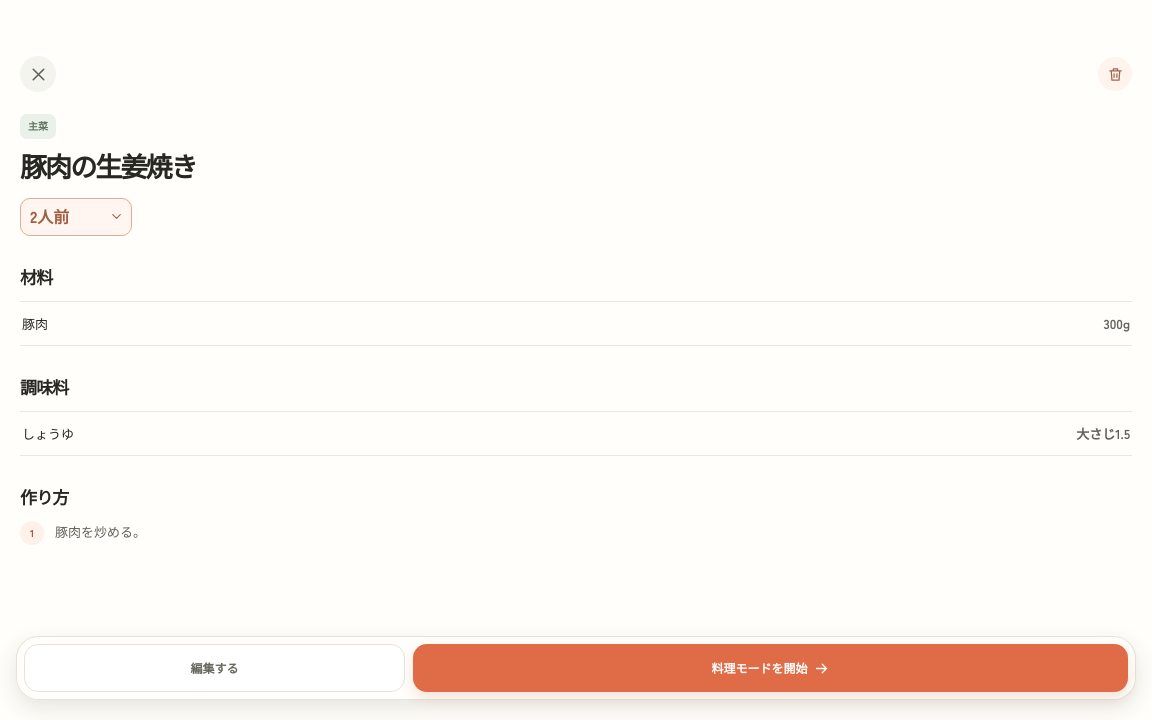
RecipeDetail deletion › does not navigate when deletion fails
Click the button named "レシピを削除": {"x": 1115, "y": 74} x1=1098 y1=57 x2=1132 y2=91
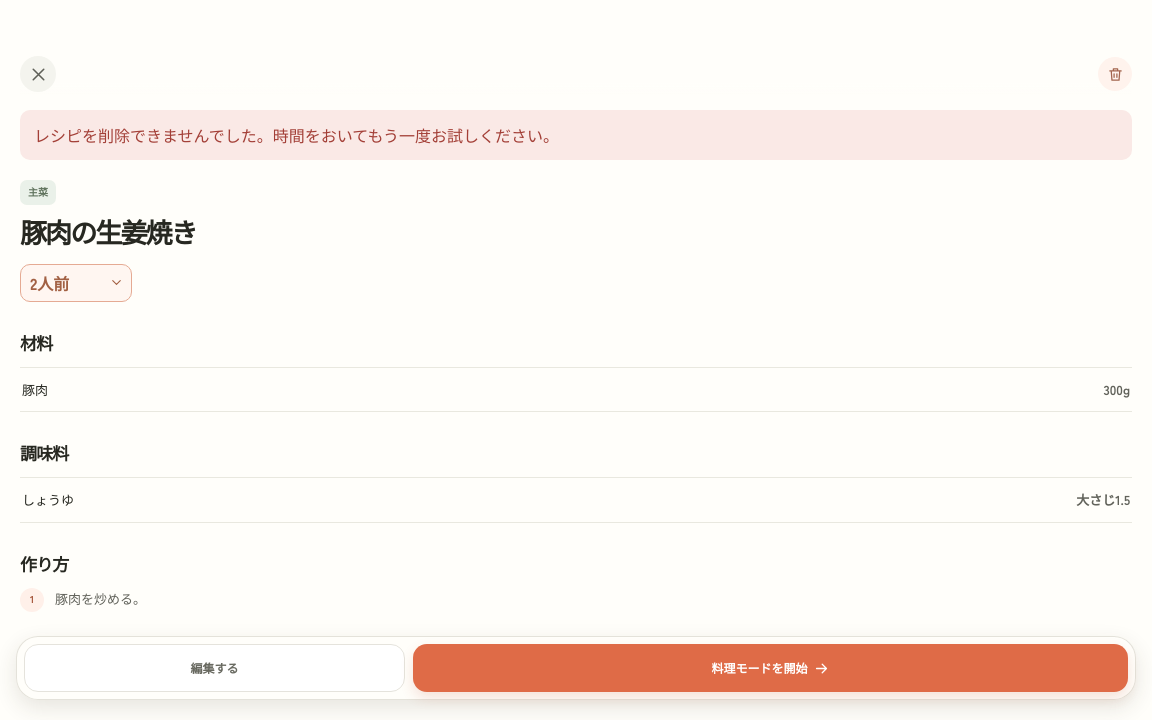
Check: the message shows "レシピを削除できませんでした", box x1=34 y1=123 x2=559 y2=147
